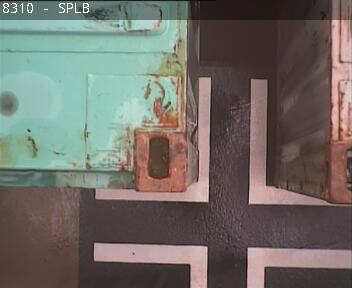groundmarker_1: (94, 78, 330, 205)
